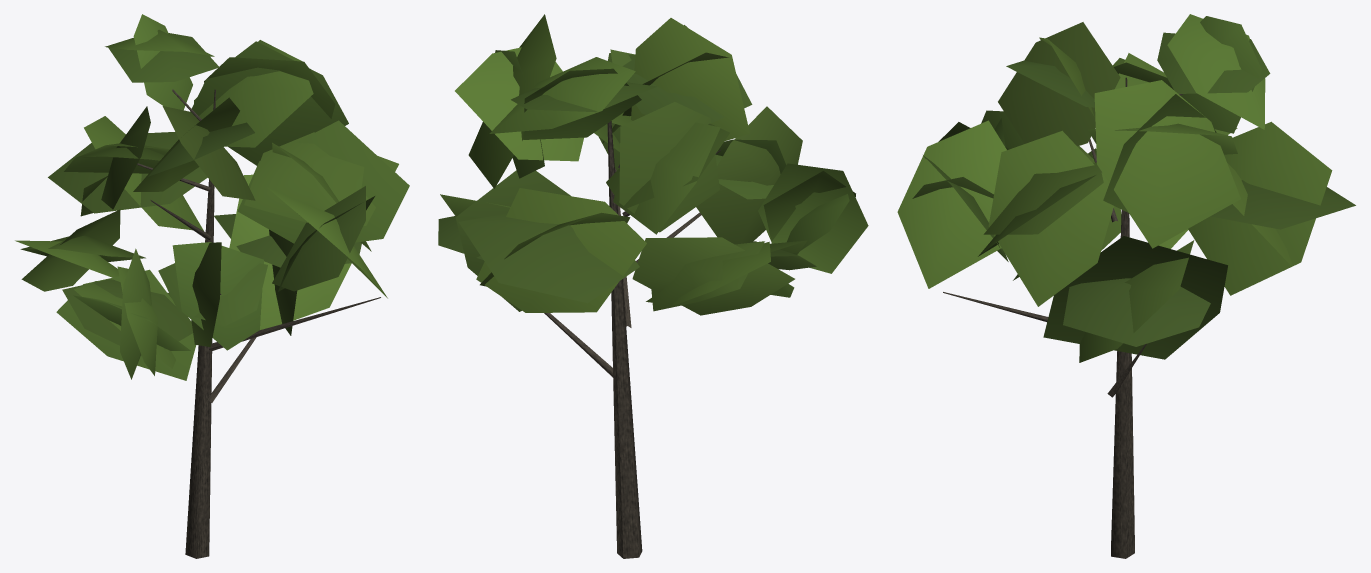
Rendered from spreading_03_lod3.glb.
3 renders of one model, left to right at view 1: azimuth 30°, elevation 25°; view 2: azimuth 150°, elevation 25°; view 3: azimuth 270°, elevation 25°, orthographic. The views are drawn at different scales.
Visible parts, largest first — view 1: individual_curved_leaf_sprigs, retained_branches_0; view 2: individual_curved_leaf_sprigs, retained_branches_0; view 3: individual_curved_leaf_sprigs, retained_branches_0.
Part boxes in pixels (x1,y1,x2,y2): individual_curved_leaf_sprigs: [15, 14, 409, 380]; retained_branches_0: [137, 89, 380, 558]; individual_curved_leaf_sprigs: [438, 14, 868, 315]; retained_branches_0: [544, 121, 720, 558]; individual_curved_leaf_sprigs: [897, 14, 1355, 362]; retained_branches_0: [943, 77, 1183, 558].
Bounding box in the file's own units: 7.09 × 9.92 × 7.79.
Materials: 2 (1 with a texture image).
